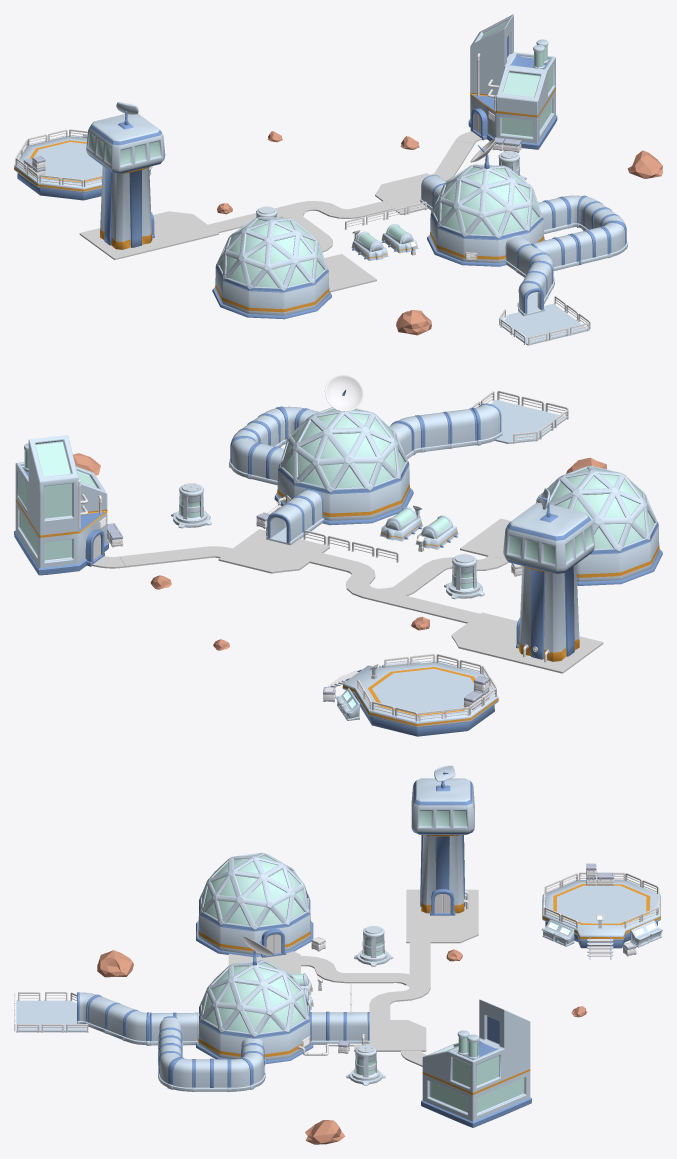
Rendered from planet-base.fbx.
The picture shows the model from 3 angles, top to bottom: view 1: azimuth 30°, elevation 25°; view 2: azimuth 150°, elevation 25°; view 3: azimuth 270°, elevation 25°; orthographic projection. The views are drawn at different scales.
Visible parts, largest first — view 1: building.002, building, Cube.003, Cube, Cube.001, Cylinder.001, road-groundCube.005, road-groundCube.001, road-groundCube.004, road-groundCube.006, tube-tunel.014, tube-tunel.015 (+12 smaller); view 2: building, Cube.003, building.002, Cylinder.001, Cube, Cube.001, road-groundCube.005, road-groundCube.004, road-groundCube.001, tube-tunel, tank.001, tank (+18 smaller); view 3: Cube.003, building.002, building, Cylinder.001, Cube.001, Cube, road-groundCube.005, road-groundCube.001, road-groundCube.004, tube-tunel.003, tube-tunel-corner, tube-tunel.001 (+14 smaller).
Boxes of the visible parts, x1=… form: building.002: x1=212, y1=216, x2=331, y2=319; building: x1=427, y1=164, x2=544, y2=266; Cube.003: x1=468, y1=14, x2=557, y2=149; Cube: x1=100, y1=166, x2=152, y2=249; Cube.001: x1=86, y1=114, x2=165, y2=173; Cylinder.001: x1=14, y1=136, x2=102, y2=192; road-groundCube.005: x1=79, y1=211, x2=218, y2=259; road-groundCube.001: x1=502, y1=303, x2=587, y2=345; road-groundCube.004: x1=375, y1=173, x2=429, y2=214; road-groundCube.006: x1=324, y1=254, x2=376, y2=292; tube-tunel.014: x1=570, y1=226, x2=610, y2=264; tube-tunel.015: x1=531, y1=234, x2=579, y2=270; building: x1=274, y1=407, x2=413, y2=525; Cube.003: x1=14, y1=435, x2=108, y2=575; building.002: x1=536, y1=465, x2=662, y2=585; Cylinder.001: x1=342, y1=661, x2=498, y2=727; Cube: x1=519, y1=564, x2=579, y2=661; Cube.001: x1=503, y1=503, x2=594, y2=573; road-groundCube.005: x1=451, y1=612, x2=603, y2=673; road-groundCube.004: x1=218, y1=529, x2=329, y2=573; road-groundCube.001: x1=490, y1=400, x2=566, y2=443; tube-tunel: x1=266, y1=503, x2=303, y2=545; tank.001: x1=444, y1=554, x2=484, y2=599; tank: x1=171, y1=483, x2=211, y2=528; Cube.003: x1=421, y1=999, x2=531, y2=1127; building.002: x1=196, y1=852, x2=313, y2=956; building: x1=196, y1=960, x2=313, y2=1064; Cylinder.001: x1=542, y1=880, x2=660, y2=940; Cube.001: x1=411, y1=778, x2=474, y2=834; Cube: x1=420, y1=835, x2=465, y2=913; road-groundCube.005: x1=406, y1=889, x2=478, y2=943; road-groundCube.001: x1=16, y1=1000, x2=86, y2=1032; road-groundCube.004: x1=354, y1=1020, x2=426, y2=1051; tube-tunel.003: x1=158, y1=1052, x2=194, y2=1091; tube-tunel-corner: x1=229, y1=1052, x2=265, y2=1091; tube-tunel.001: x1=194, y1=1058, x2=229, y2=1091.
Size of what is drawn, in the model's own units: 5700 by 1498 by 6193.
